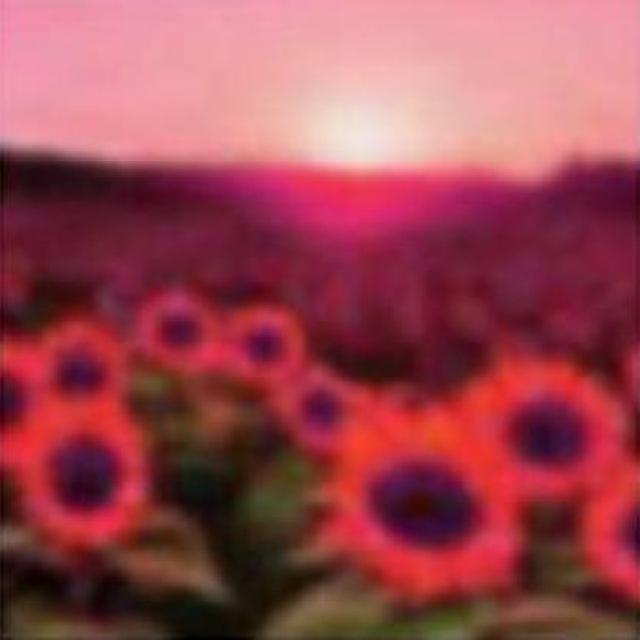sunflower: (329, 405, 526, 597), (3, 394, 158, 554), (473, 357, 624, 494), (220, 305, 304, 392)
